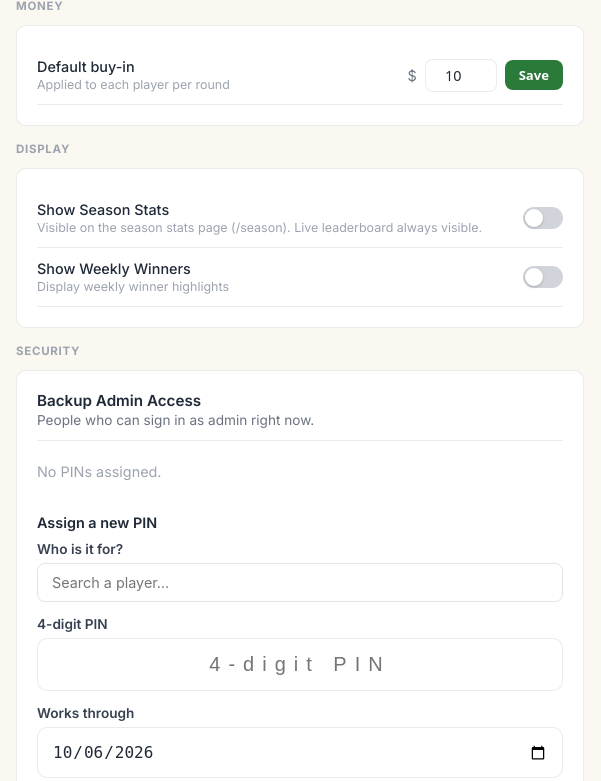
Test: Backup Admin Access — assign form › assigns, then reveals the PIN once with the holder and expiry
// Pick the player through the real combobox.
Focus the field named "Who is it for?". click: point(300, 582)
box: [37, 563, 563, 602]
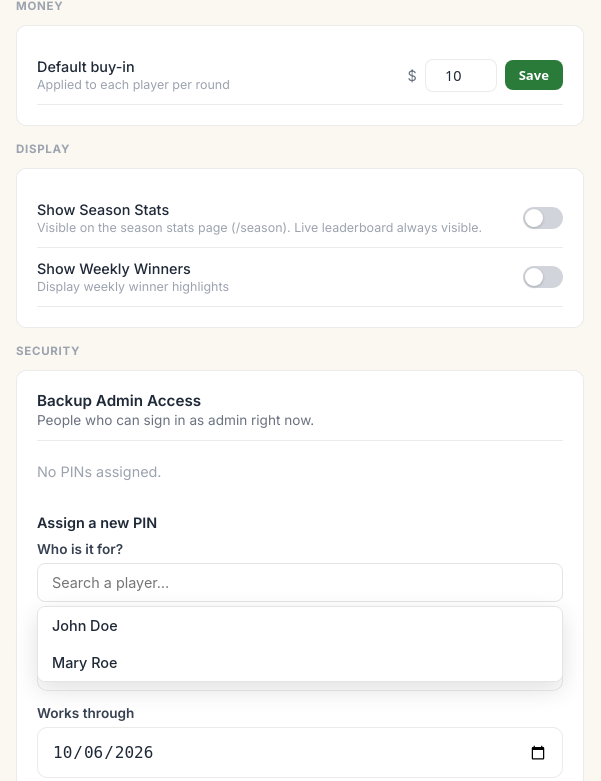
Click the option "John Doe". click: point(85, 626)
box: [38, 607, 562, 644]
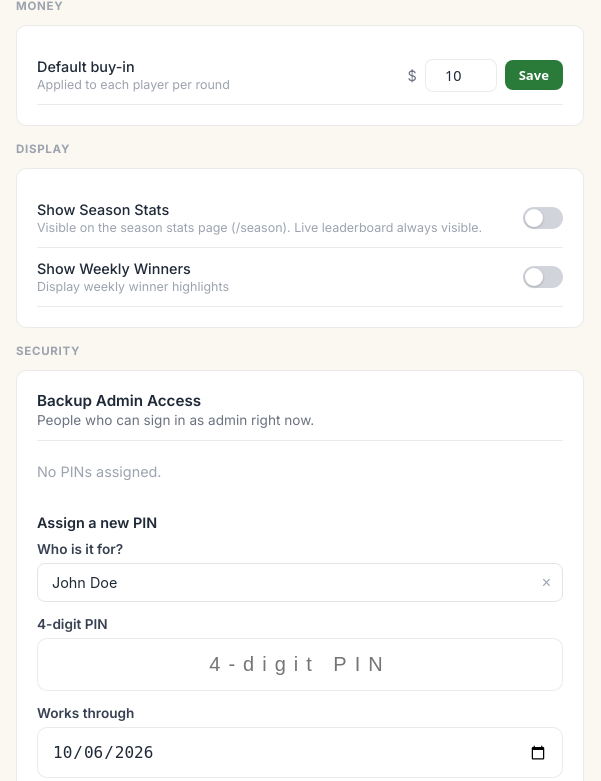
Type "4821" into the field with id "backup-pin-digits". click: point(300, 664)
box: [37, 638, 563, 691]
(page scrolled)
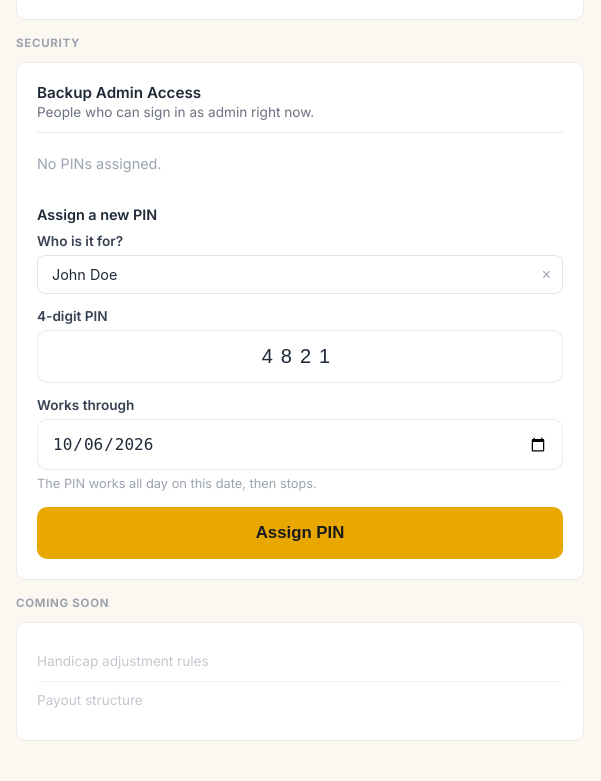
Click the button "Assign PIN". click: point(300, 533)
box: [37, 507, 563, 559]
(page scrolled)
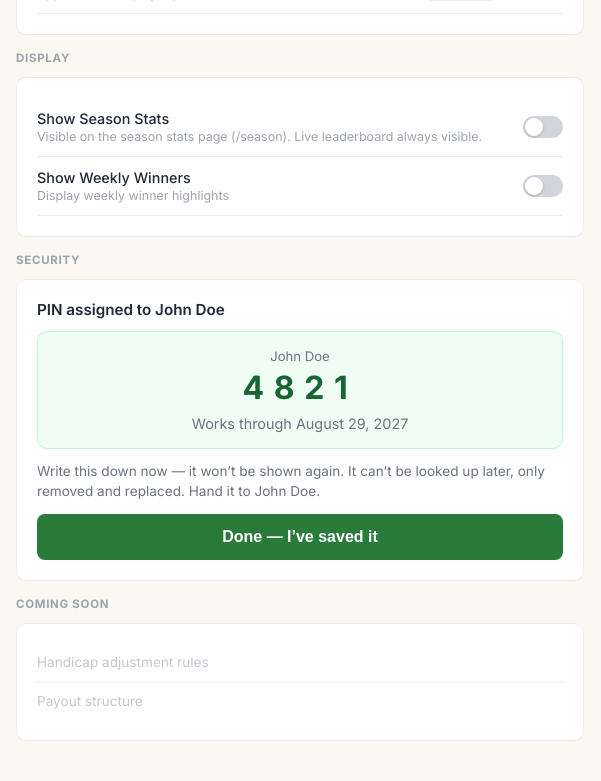
Expected: the text "4821" is shown, [243, 368, 357, 407]
Expected: the text "PIN assigned to John Doe" is shown, [37, 300, 225, 319]
Expected: the text "Works through August 29, 2027" is shown, [192, 415, 408, 432]
// Dismiss — and it is not shown again.
Click the button "Done — I’ve saved it". click: point(300, 537)
box: [37, 514, 563, 560]
(page scrolled)
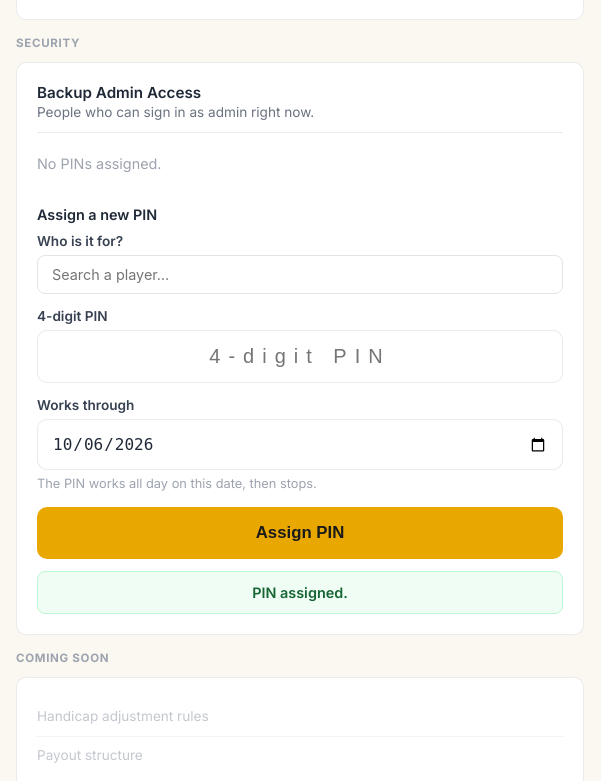
Expected: the text "4821" is gone
